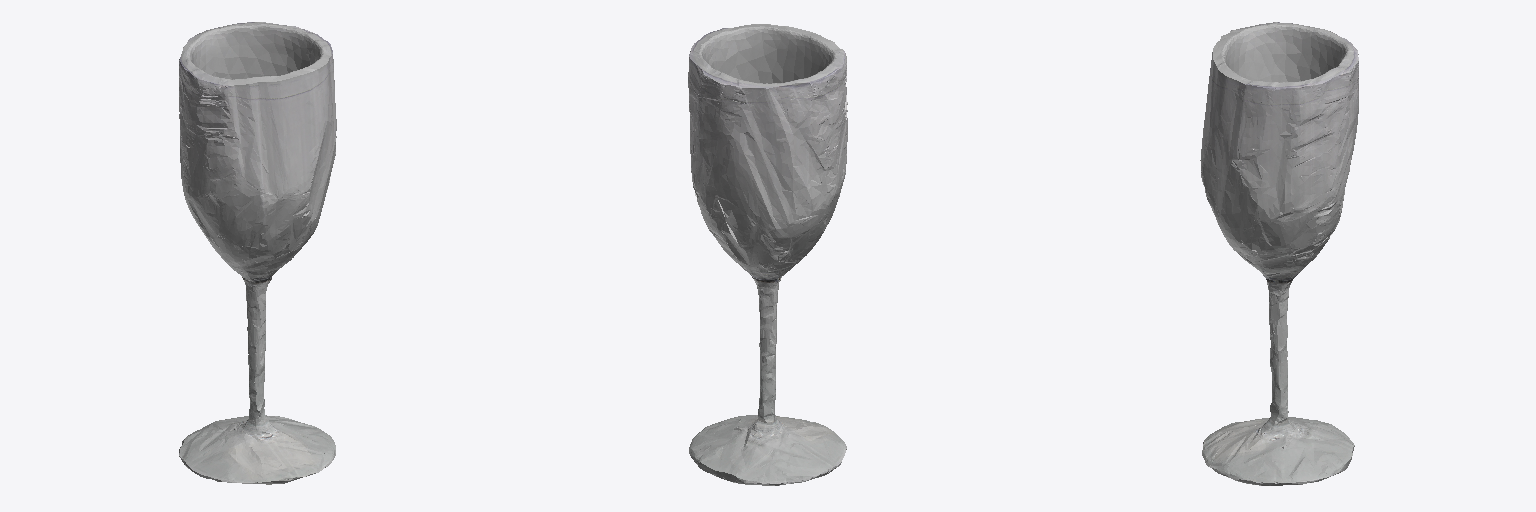
The picture shows the model from 3 angles: view 1: azimuth 30°, elevation 25°; view 2: azimuth 150°, elevation 25°; view 3: azimuth 270°, elevation 25°; orthographic projection.
Parts seen in each view (by area): view 1: group_0; view 2: group_0; view 3: group_0.
Part boxes in pixels (x1,y1,x2,y2): group_0: (179, 22, 336, 484); group_0: (688, 24, 847, 485); group_0: (1200, 22, 1358, 485).
Size of the model in its own units: 54.16 by 153 by 54.05.
Materials: 1 (1 with a texture image).